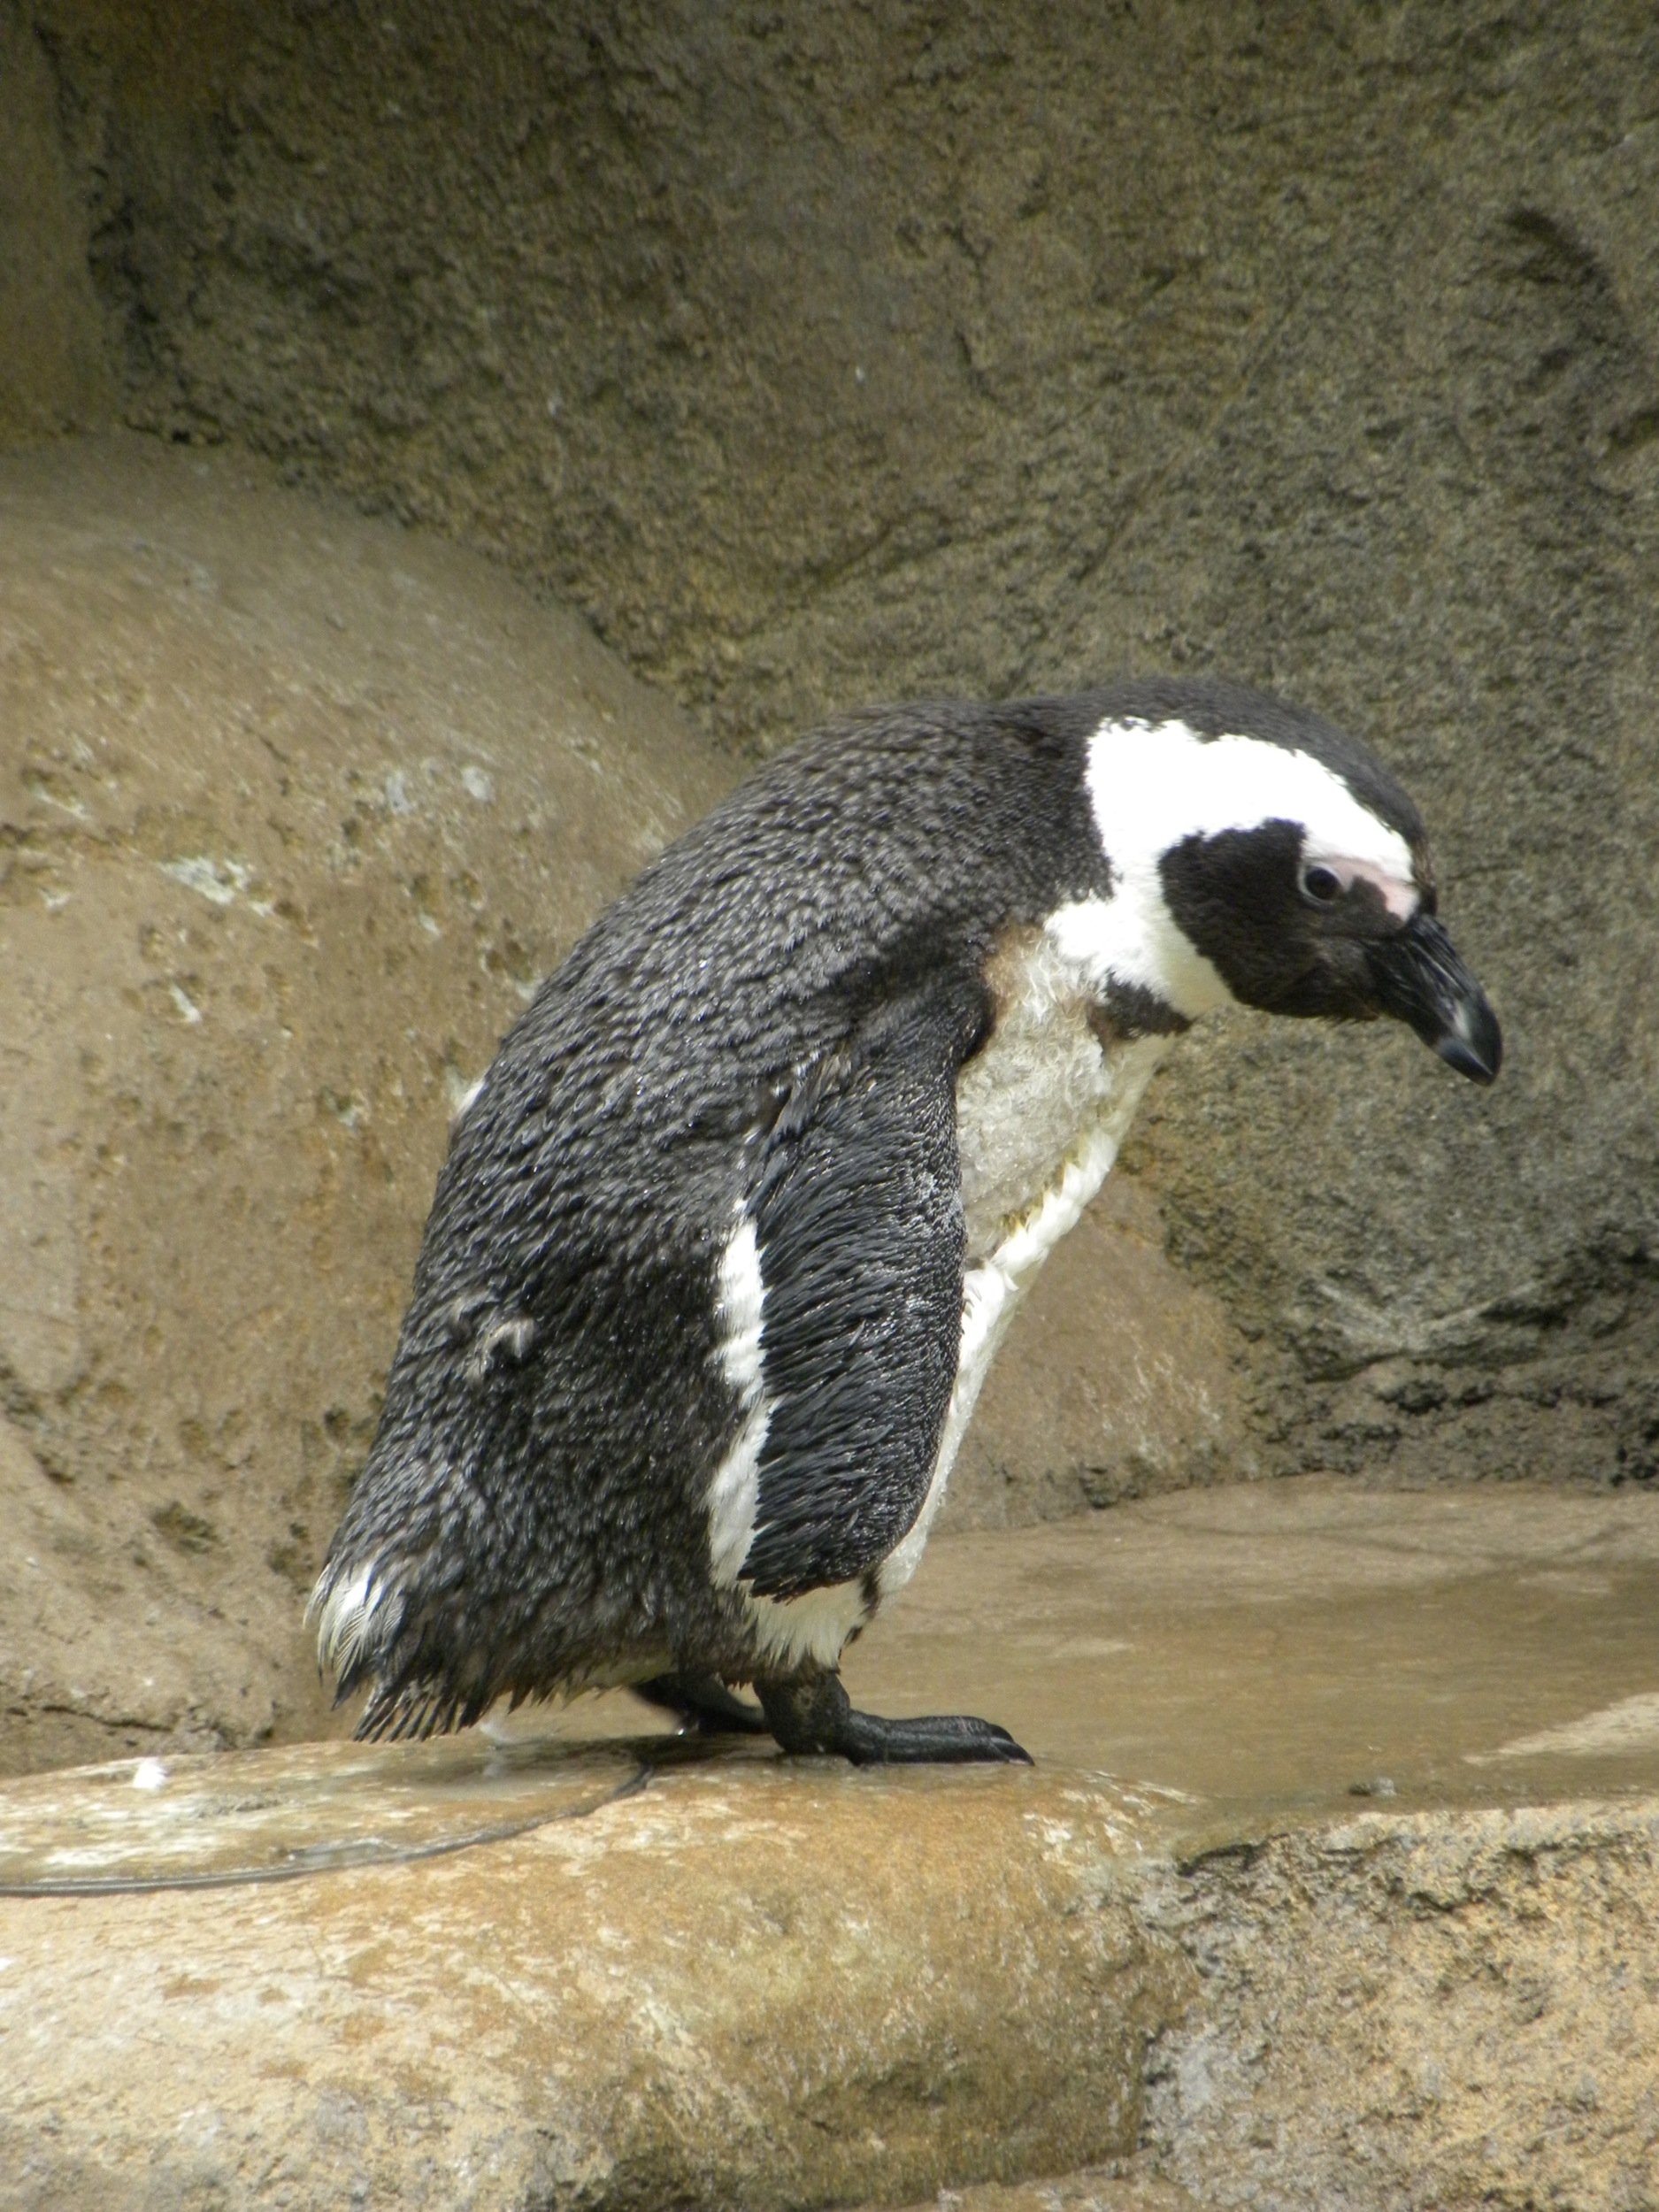penguin: (326, 690, 1530, 1794)
